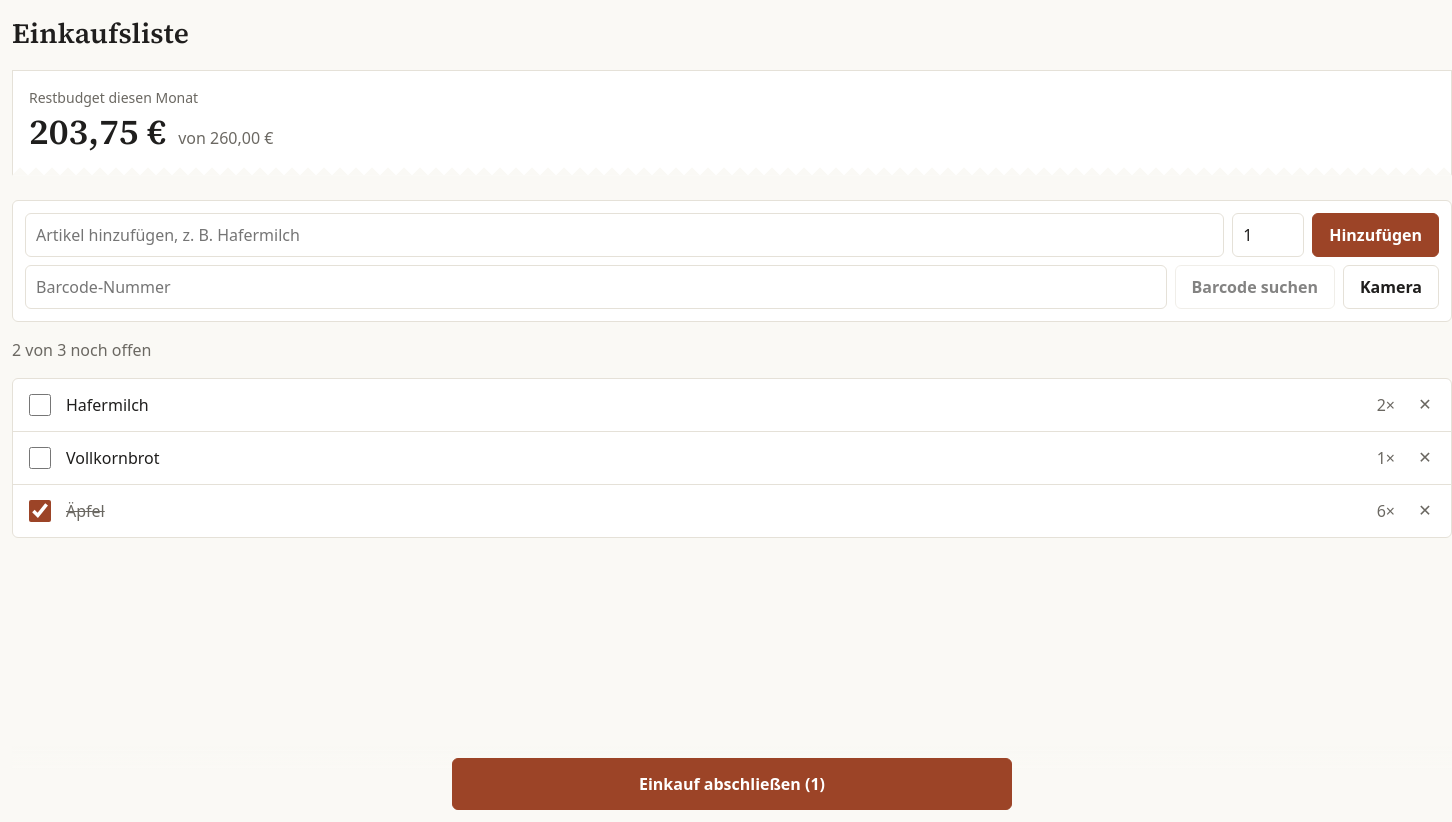
Test: ShoppingListView › zeigt die Vorrats-Warnung und fügt erst nach „Trotzdem hinzufügen“ hinzu
Type "Spaghetti" into the field with placeholder "Artikel hinzufügen, z. B. Hafermilch".
click(625, 235); type("Spaghetti")  # box [25,213,1224,257]
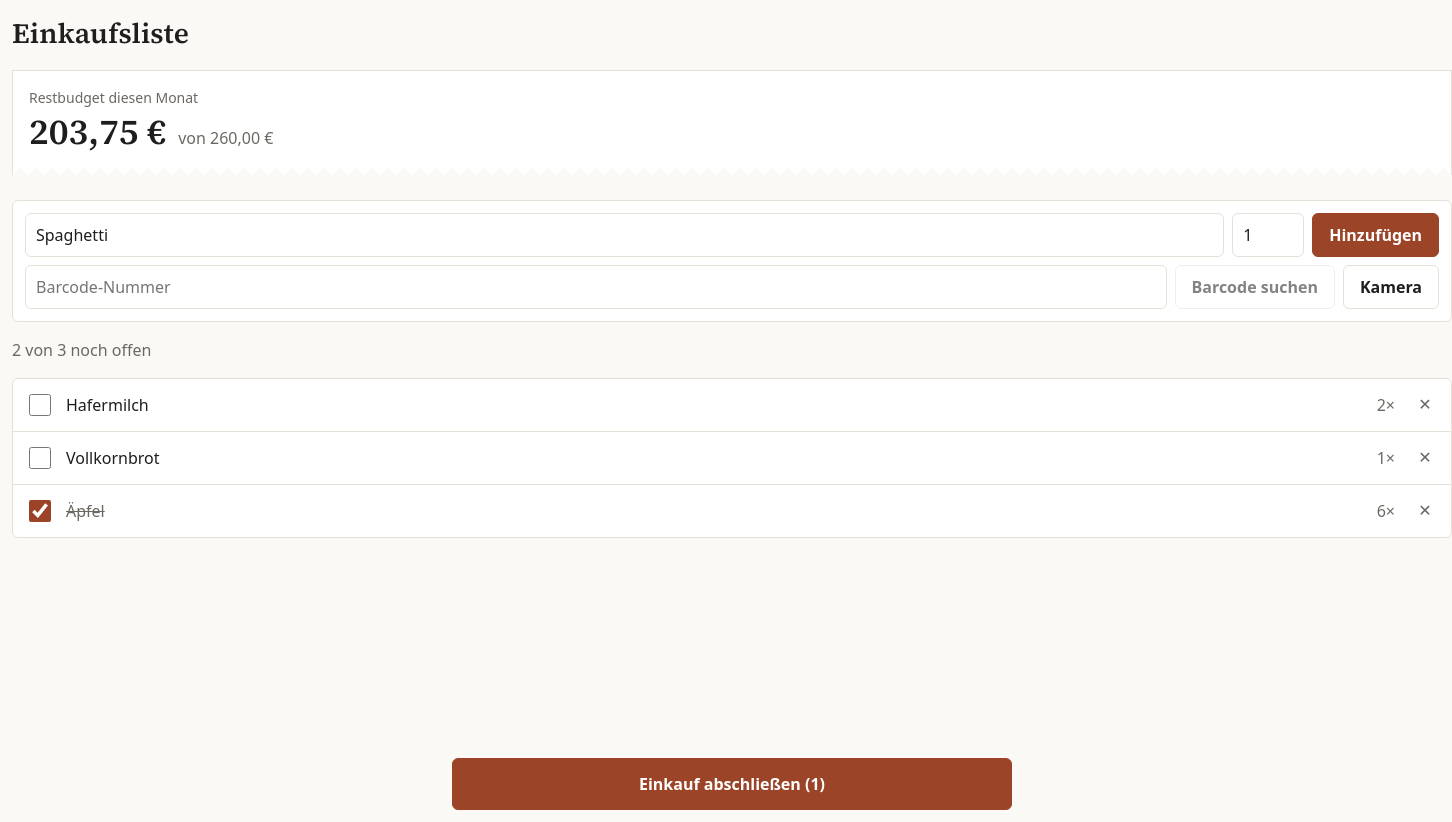
Submit the form with class "add", box [12,200,1451,322]
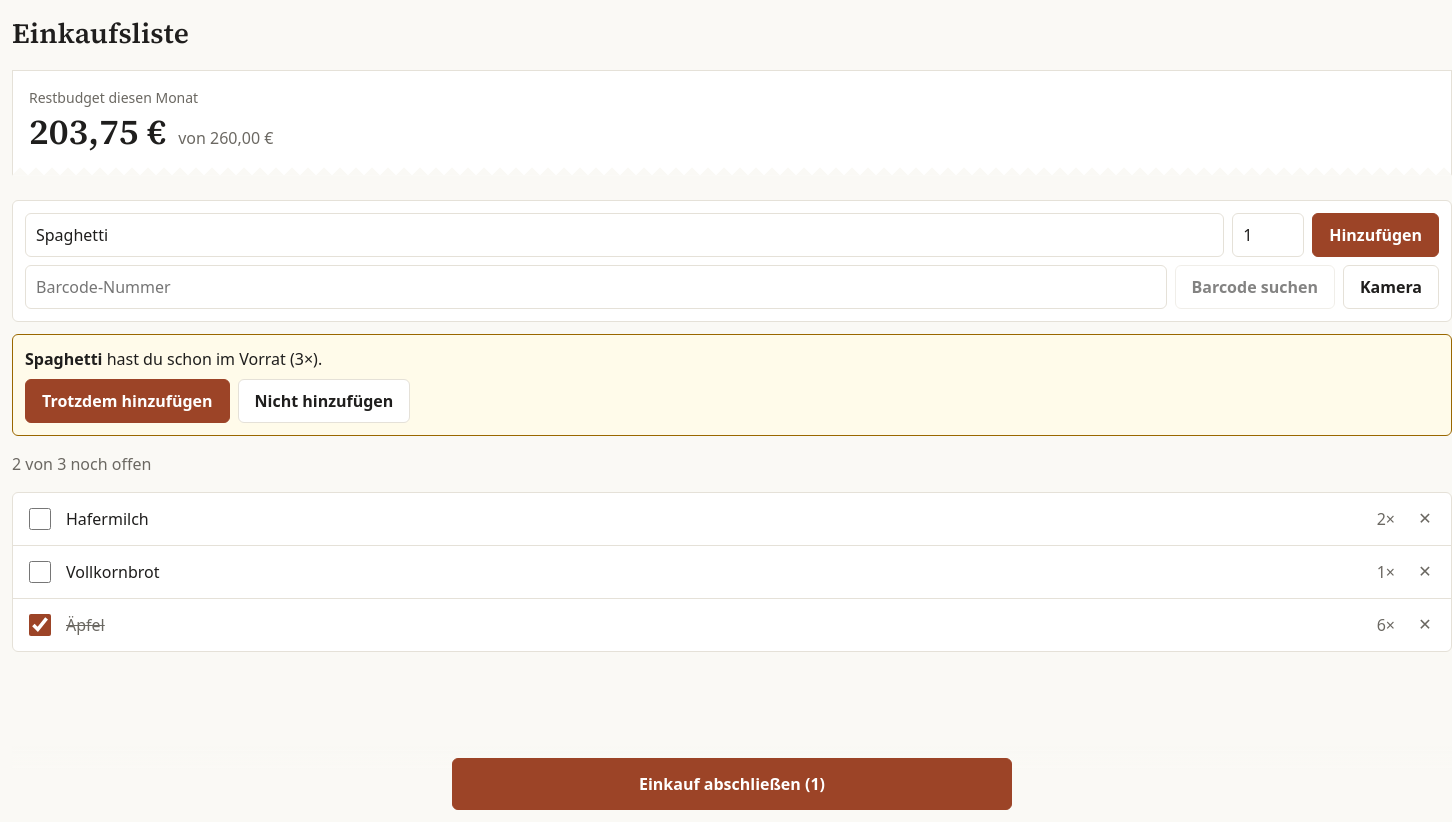
Expected: the number of list items is 3, [13,493,1451,546]; [13,546,1451,599]; [13,599,1451,651]
Expected: the message with class "warning" shows "Spaghetti hast du schon im Vorrat (3×)", [12,334,1451,436]
Click the button "Trotzdem hinzufügen".
click(127, 401)  # box [25,379,230,423]
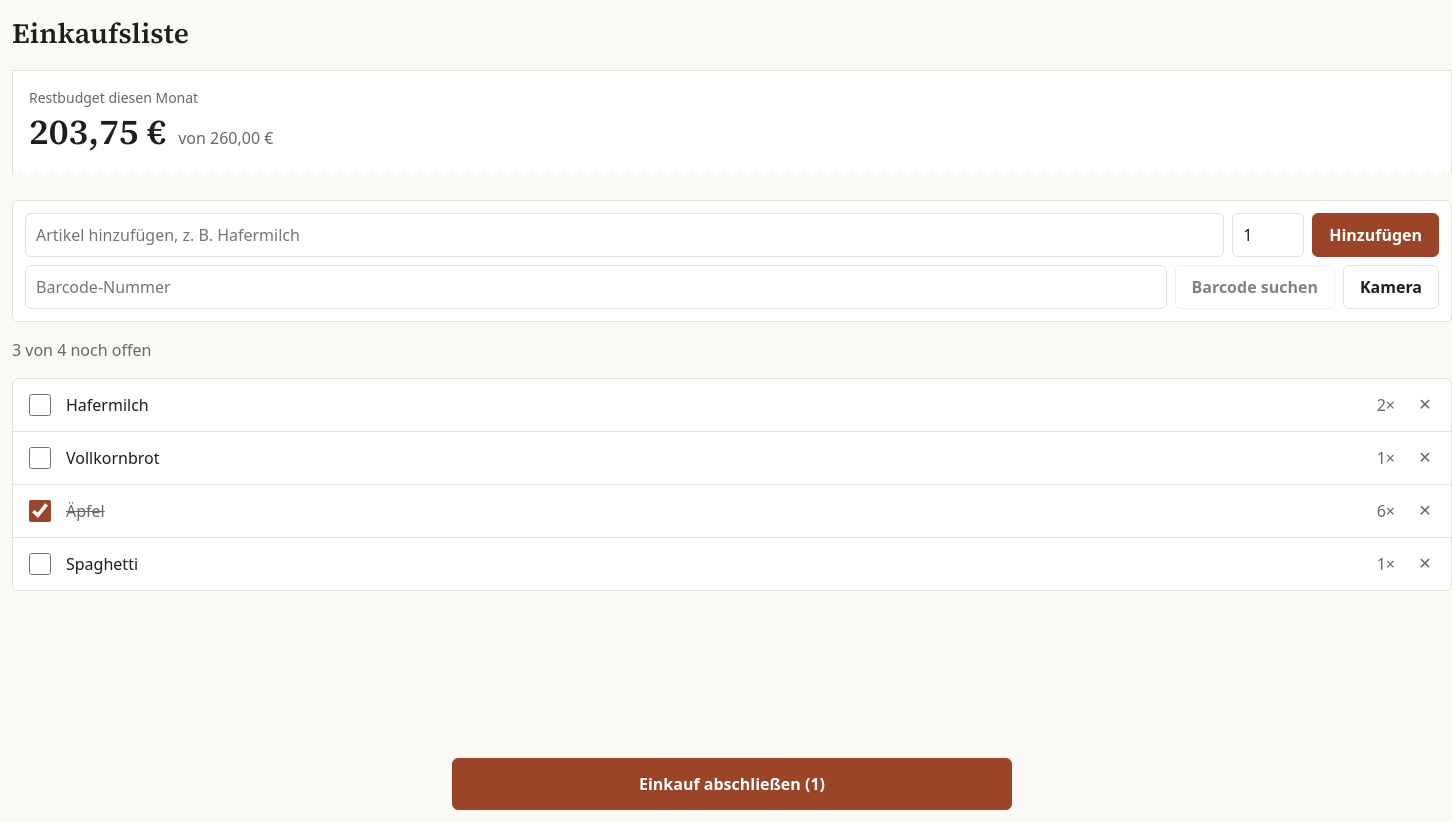
Expected: the number of list items is 4, [13,379,1451,432]; [13,432,1451,485]; [13,485,1451,538]; [13,538,1451,590]
